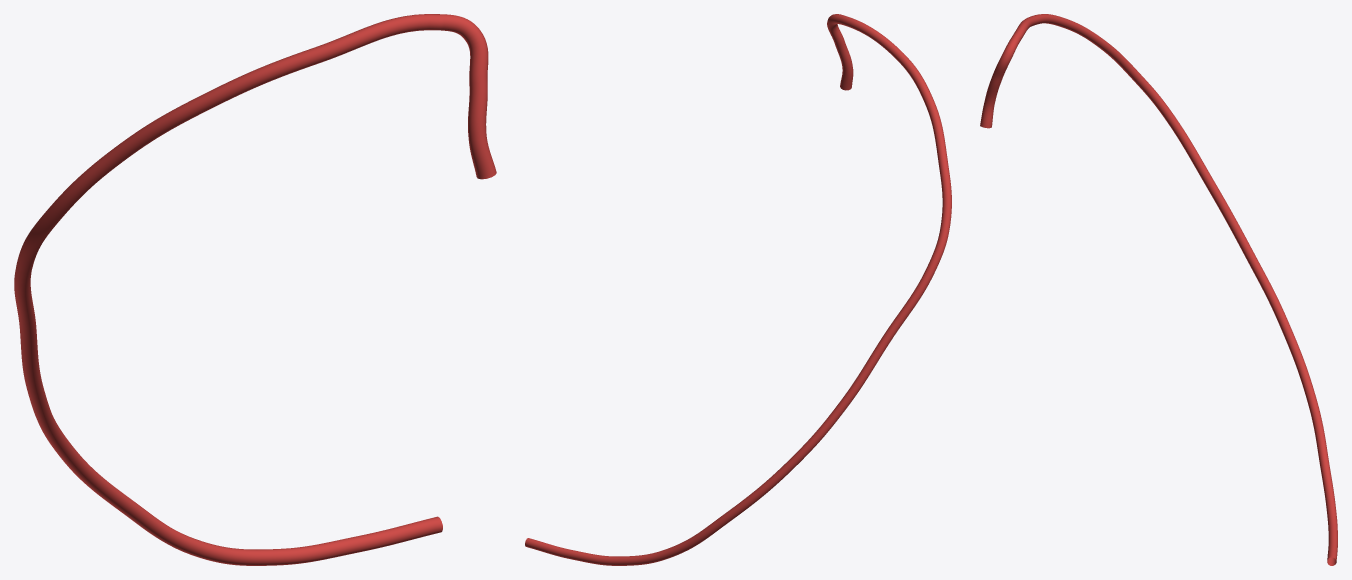
3 views of the same model, side by side, from view 1: azimuth 30°, elevation 25°; view 2: azimuth 150°, elevation 25°; view 3: azimuth 270°, elevation 25° (orthographic). The views are drawn at different scales.
Visible parts, largest first — view 1: 右侧第2肋间后动脉; view 2: 右侧第2肋间后动脉; view 3: 右侧第2肋间后动脉.
Boxes of the visible parts, x1,y1,x2,y2 form: 右侧第2肋间后动脉: [14, 14, 496, 565]; 右侧第2肋间后动脉: [525, 14, 951, 565]; 右侧第2肋间后动脉: [980, 14, 1337, 565].
Bounding box in the file's own units: 0.1161 × 0.1542 × 0.1099.
